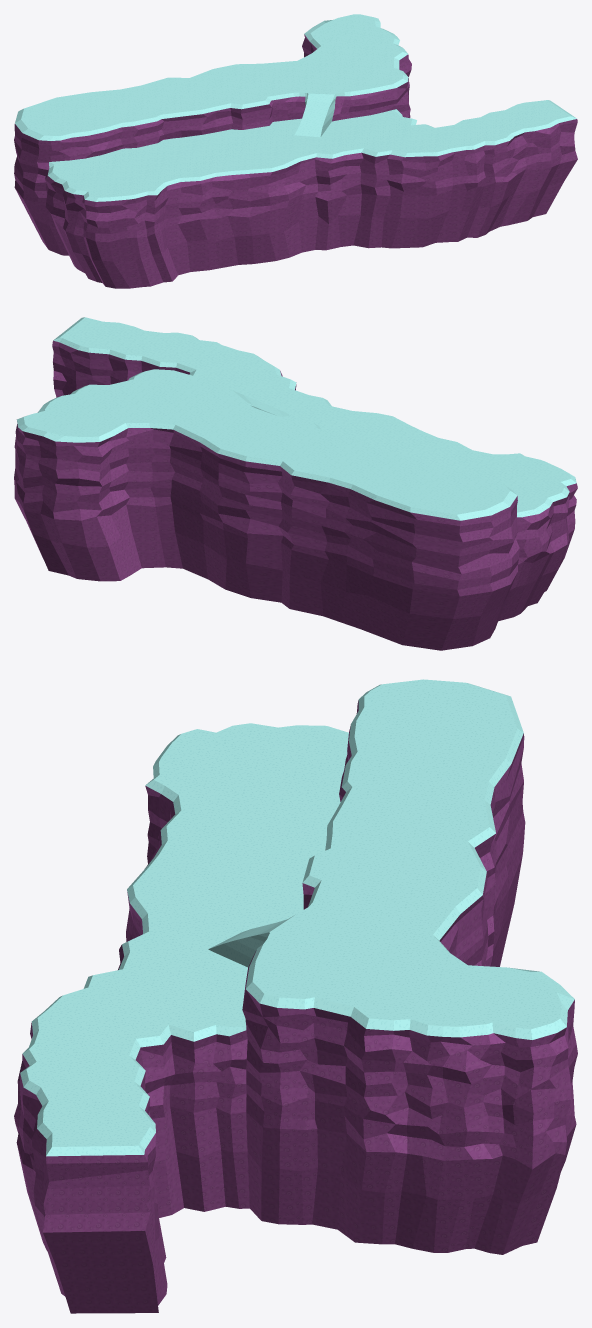
Rendered from new_island.glb.
3 views of the same model, one above another, from view 1: azimuth 30°, elevation 25°; view 2: azimuth 150°, elevation 25°; view 3: azimuth 270°, elevation 25° (orthographic). The views are drawn at different scales.
Parts seen in each view (by area): view 1: Grass1-col; view 2: Grass1-col; view 3: Grass1-col.
Part boxes in pixels (x1=…): Grass1-col: x1=14, y1=14, x2=577, y2=288; Grass1-col: x1=14, y1=317, x2=577, y2=650; Grass1-col: x1=14, y1=679, x2=577, y2=1313.
Size of the model in its own units: 37.31 by 9.49 by 20.62.
3 materials, 3 textured.
